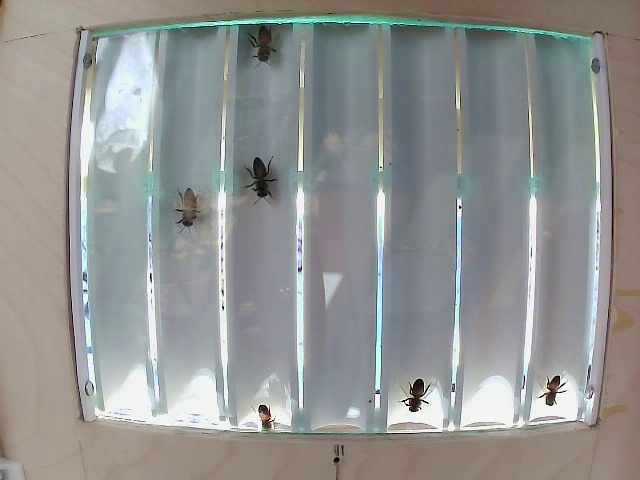bee: (243, 159, 304, 220), (180, 182, 222, 245), (391, 363, 434, 420), (256, 27, 290, 76), (535, 367, 565, 419), (242, 402, 293, 431)
